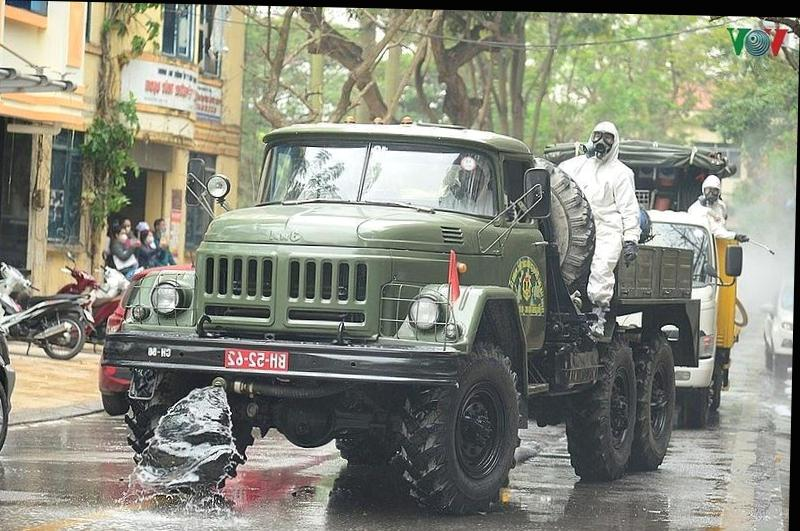License_Plate: (220, 344, 290, 377)
